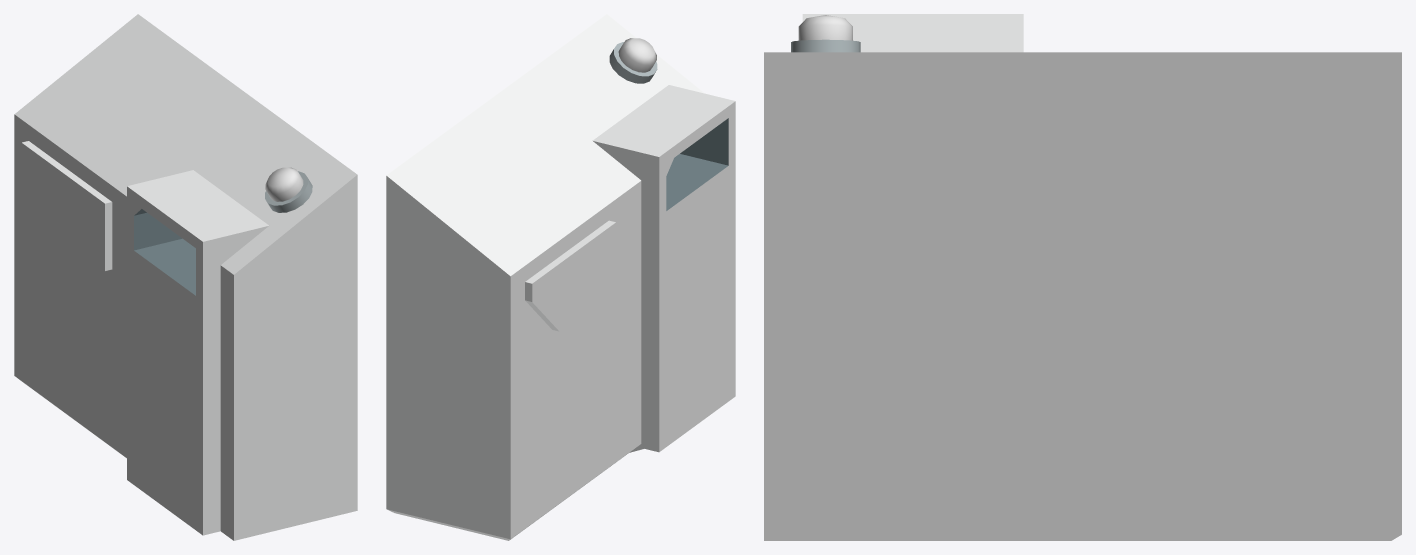
File: StationTall.fbx
3 renders of one model, left to right at view 1: azimuth 30°, elevation 25°; view 2: azimuth 150°, elevation 25°; view 3: azimuth 270°, elevation 25°, orthographic. The views are drawn at different scales.
Parts seen in each view (by area): view 1: pCube46, pCube27, Light, LightBase; view 2: pCube46, pCube27, Light, LightBase; view 3: pCube46, Light, LightBase.
Boxes of the visible parts, <box> form: pCube46: <box>14,14,357,540</box>; pCube27: <box>21,141,112,270</box>; Light: <box>265,167,303,201</box>; LightBase: <box>265,171,312,212</box>; pCube46: <box>386,14,735,540</box>; pCube27: <box>525,220,615,331</box>; Light: <box>618,38,656,72</box>; LightBase: <box>609,42,657,83</box>; pCube46: <box>764,14,1401,540</box>; Light: <box>798,15,852,40</box>; LightBase: <box>791,39,860,52</box>.
Size of the model in its own units: 18.07 by 41.28 by 48.61.
Materials: 2 (1 with a texture image).
